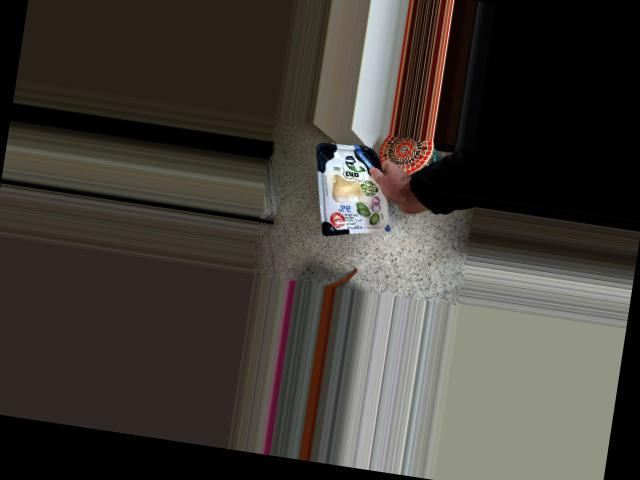cheese: (311, 134, 394, 245)
